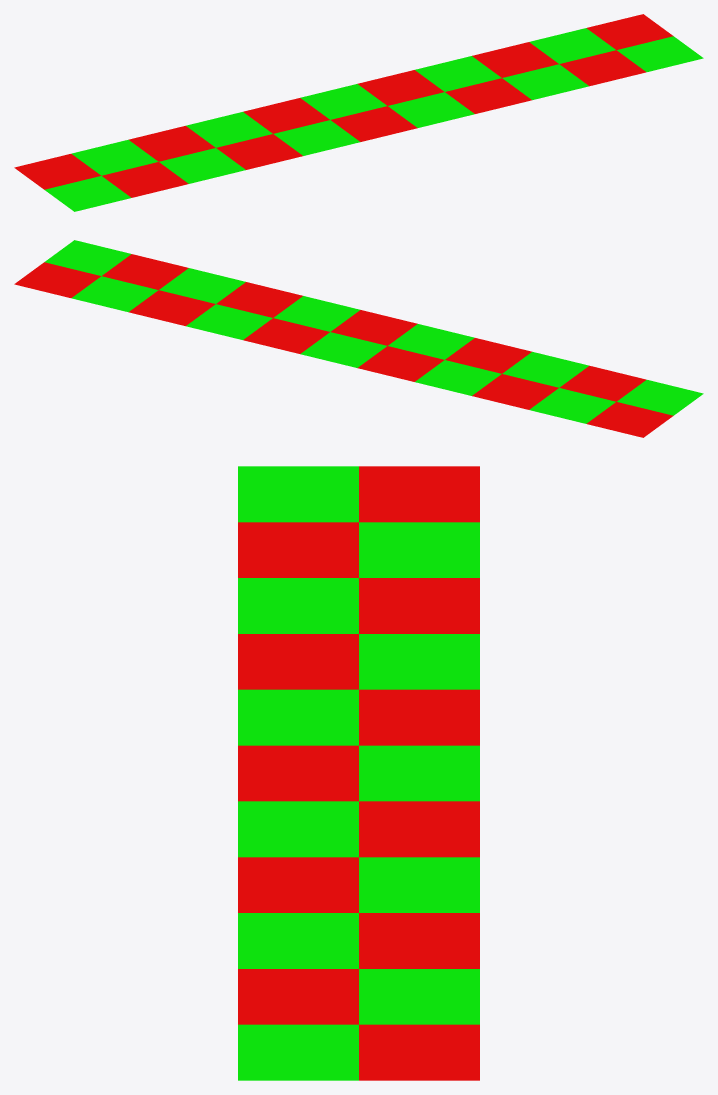
Rendered from RaceFinish.fbx.
The picture shows the model from 3 angles, top to bottom: view 1: azimuth 30°, elevation 25°; view 2: azimuth 150°, elevation 25°; view 3: azimuth 270°, elevation 25°; orthographic projection. The views are drawn at different scales.
Visible parts, largest first — view 1: SM_RaceFinish; view 2: SM_RaceFinish; view 3: SM_RaceFinish.
Boxes of the visible parts, x1,y1,x2,y2 form: SM_RaceFinish: (14,14,703,211); SM_RaceFinish: (14,240,703,437); SM_RaceFinish: (238,466,479,1080).
Size of the model in its own units: 15000 by 0 by 2500.
